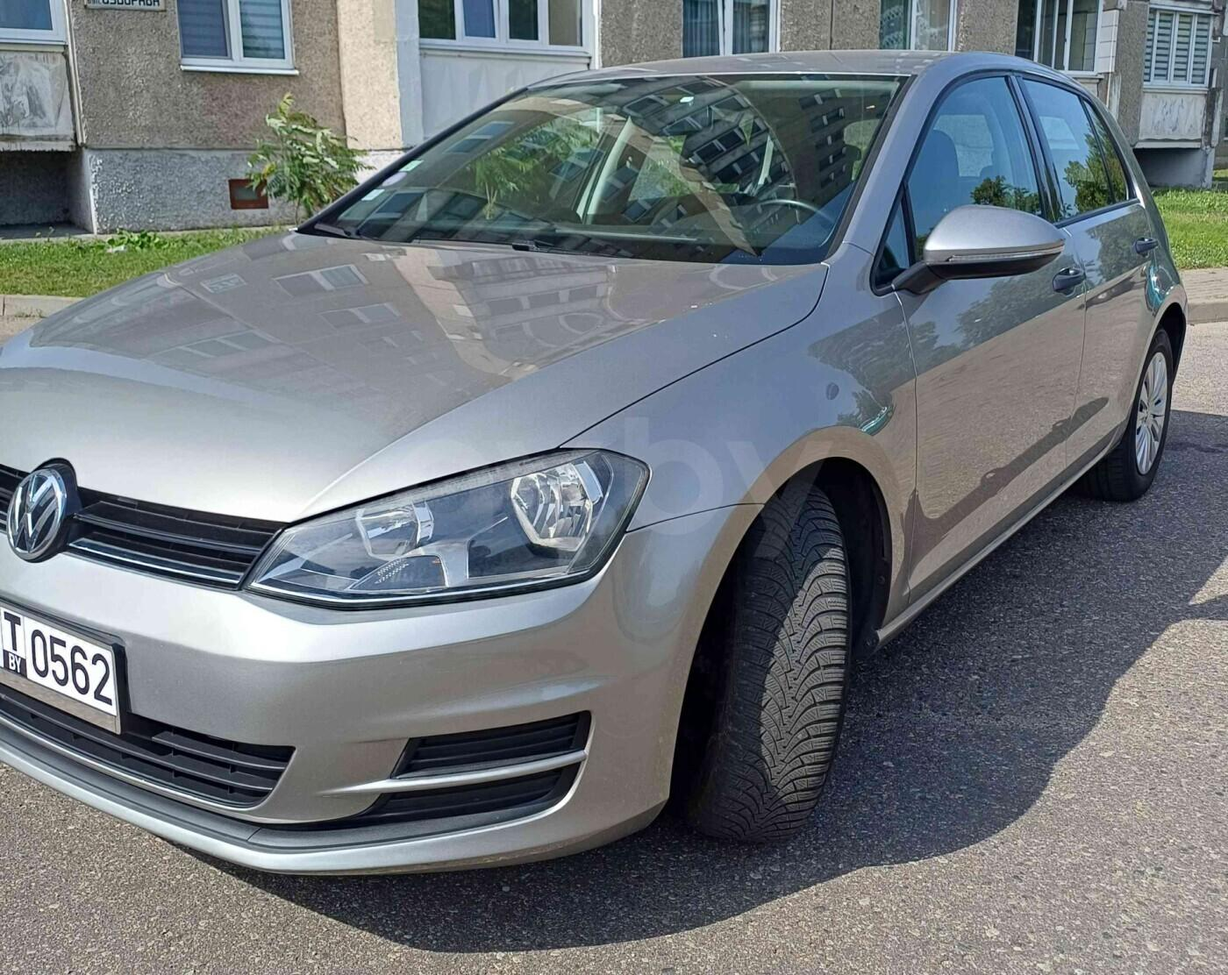Golf_2012-2017: (0, 46, 1194, 865)
